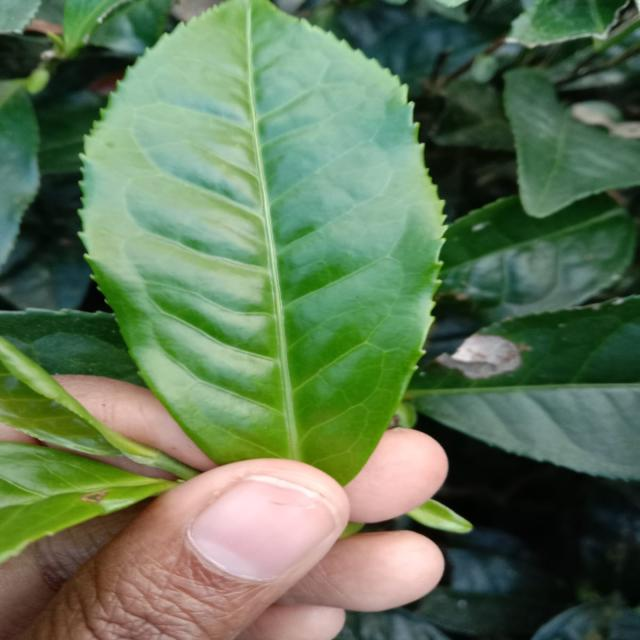Category C(4-7 days): (73, 0, 463, 572)
